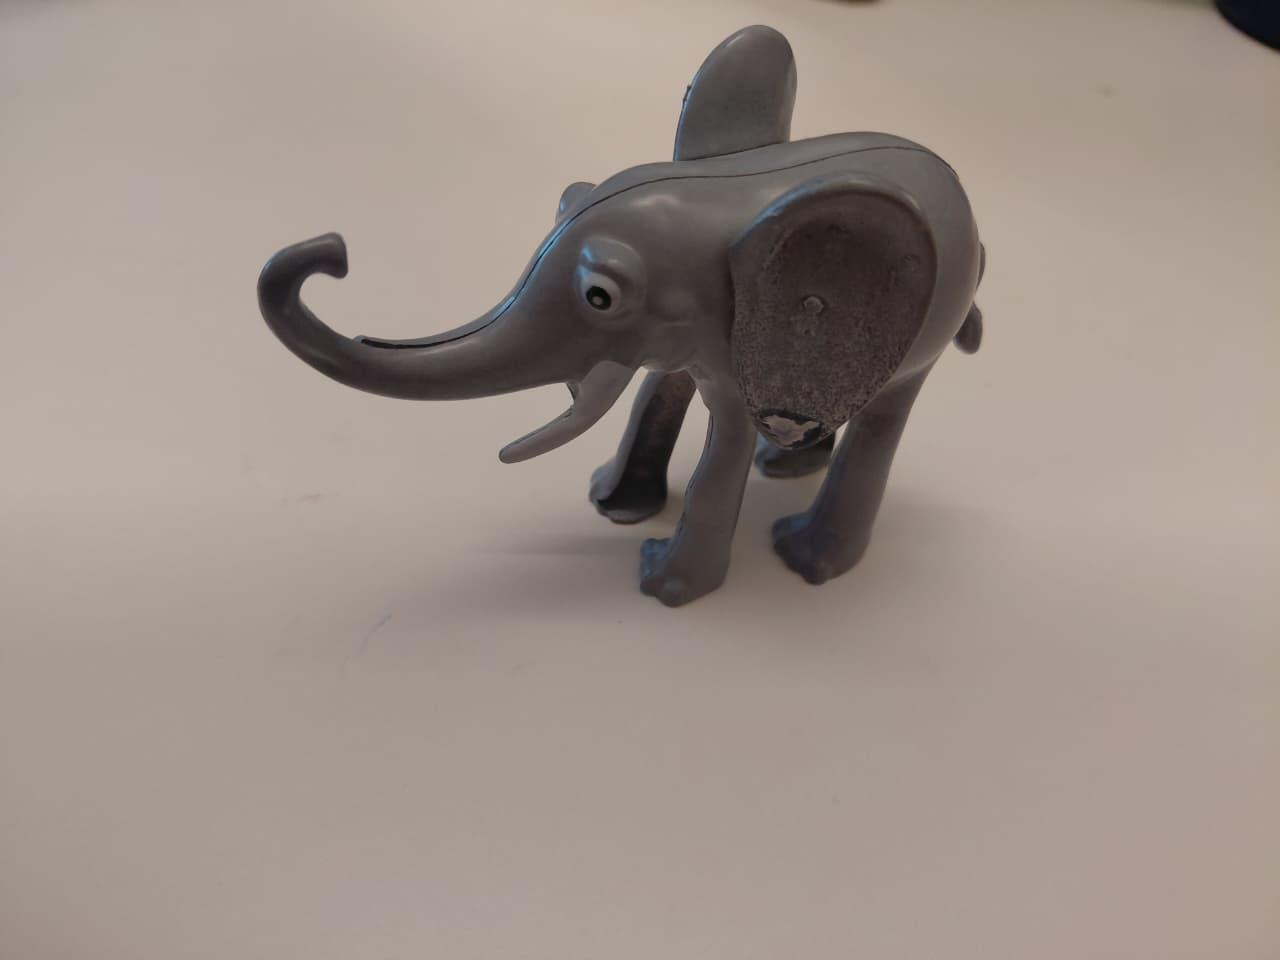elephant: (176, 26, 1080, 689)
